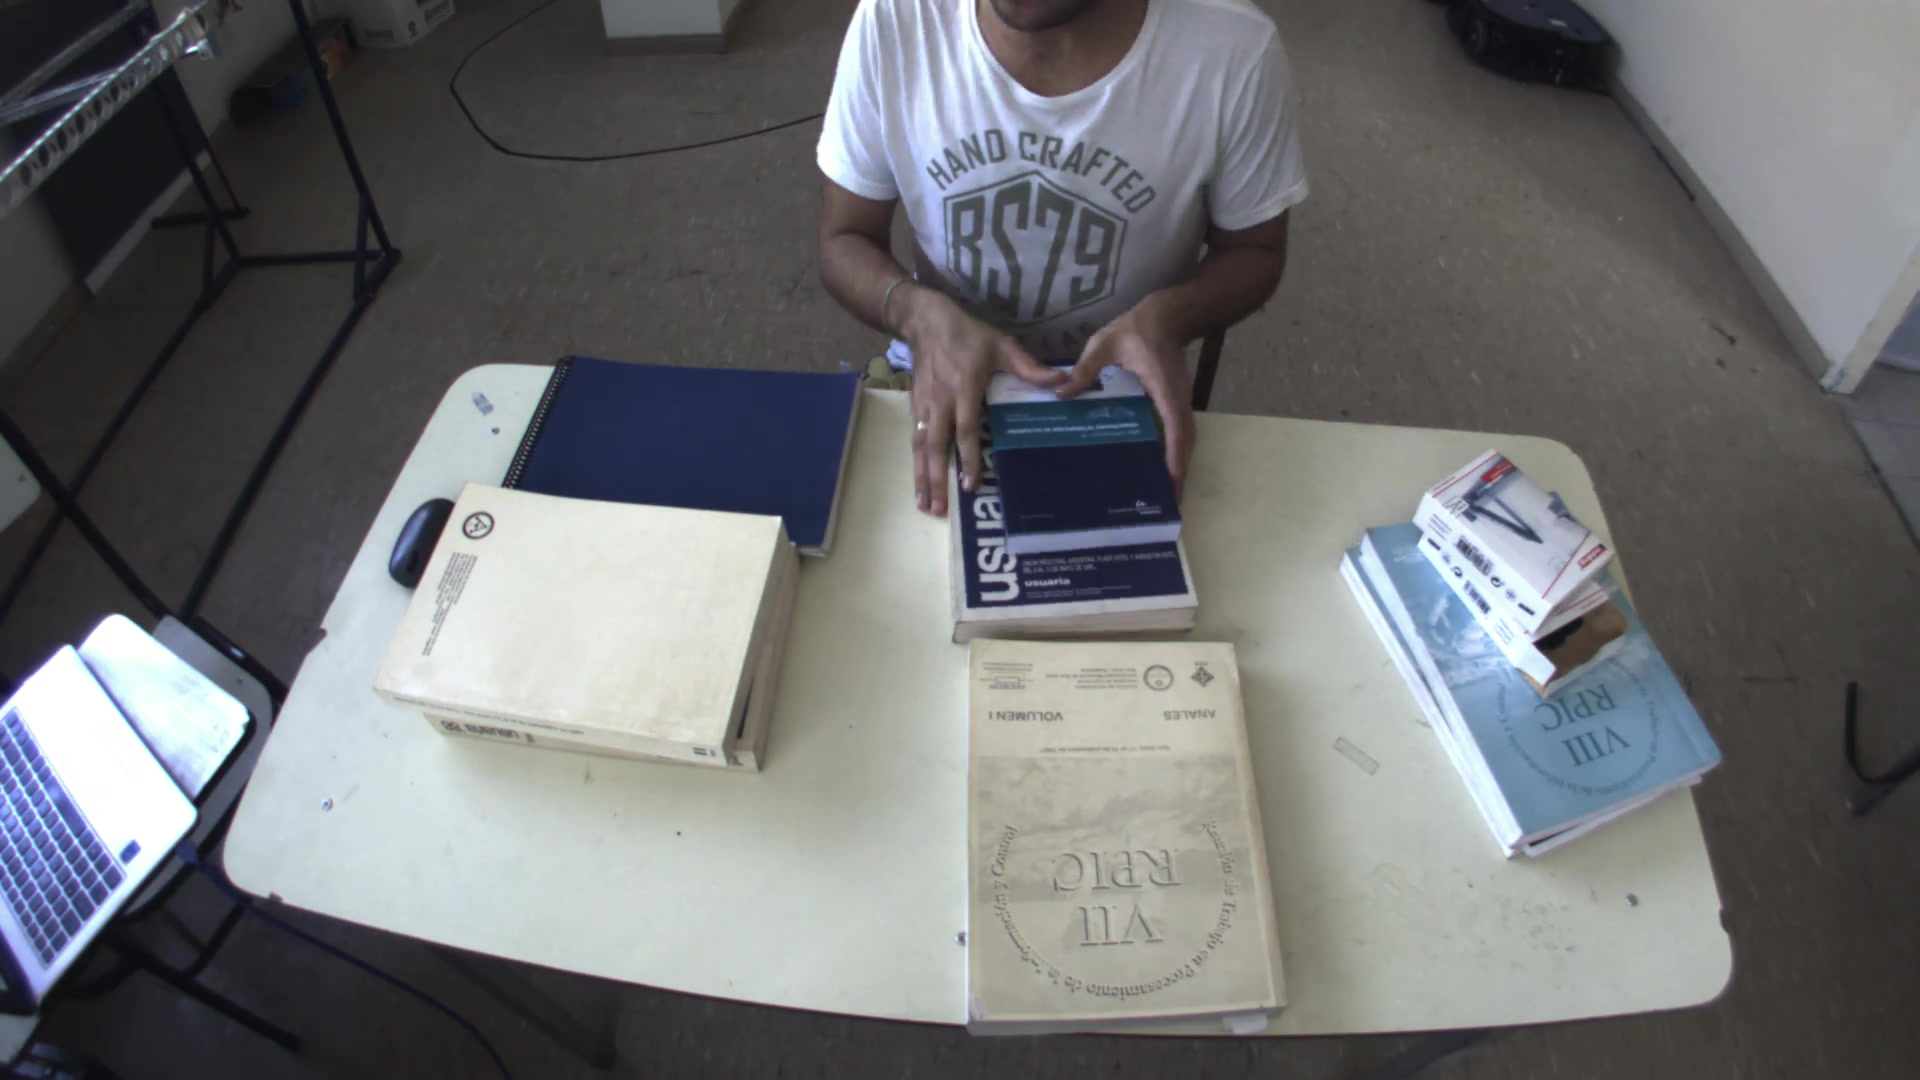hand: (885, 293, 1069, 512), (1056, 303, 1217, 479)
